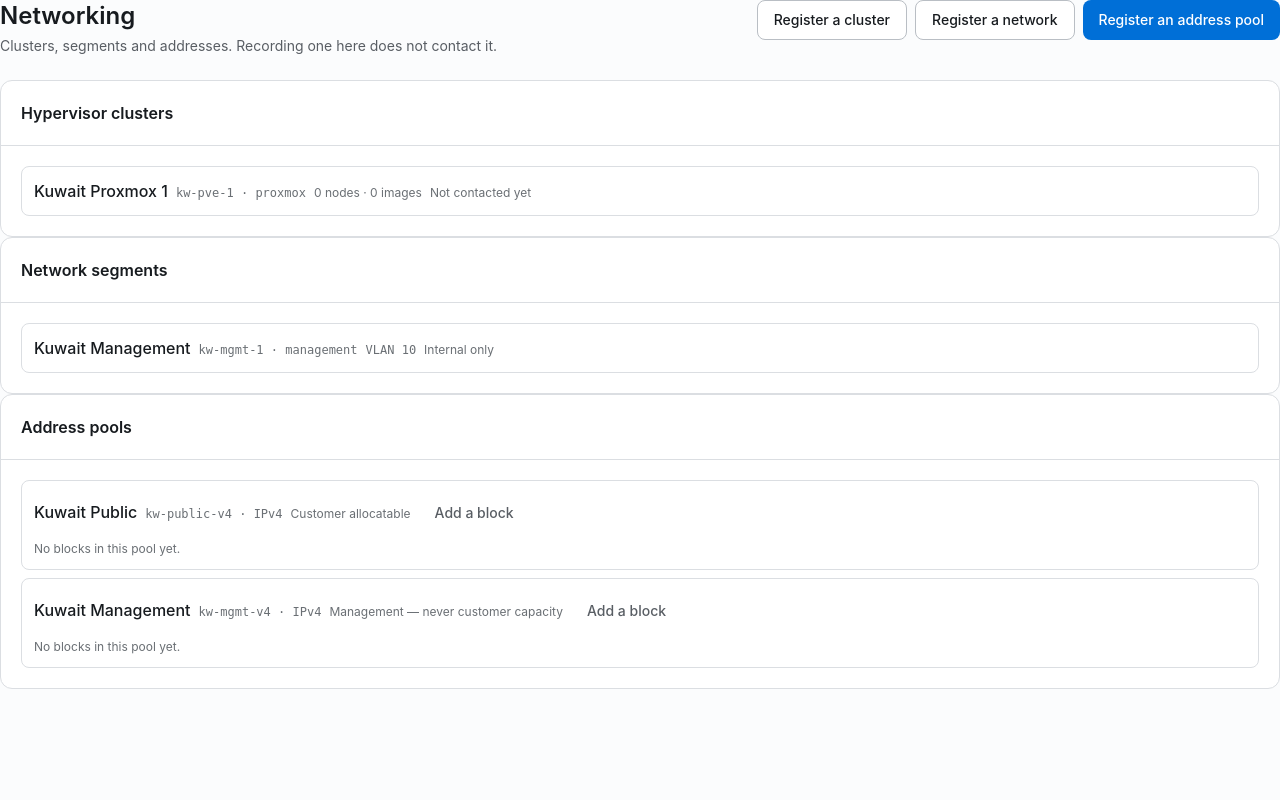
Test: NetworkingPage › says a customer block needs a customer-facing segment when there is none
The image size is (1280, 800).
Step 1. Click the button "Add a block" next to "Customer allocatable" → [474, 513], box [419,493,530,533]
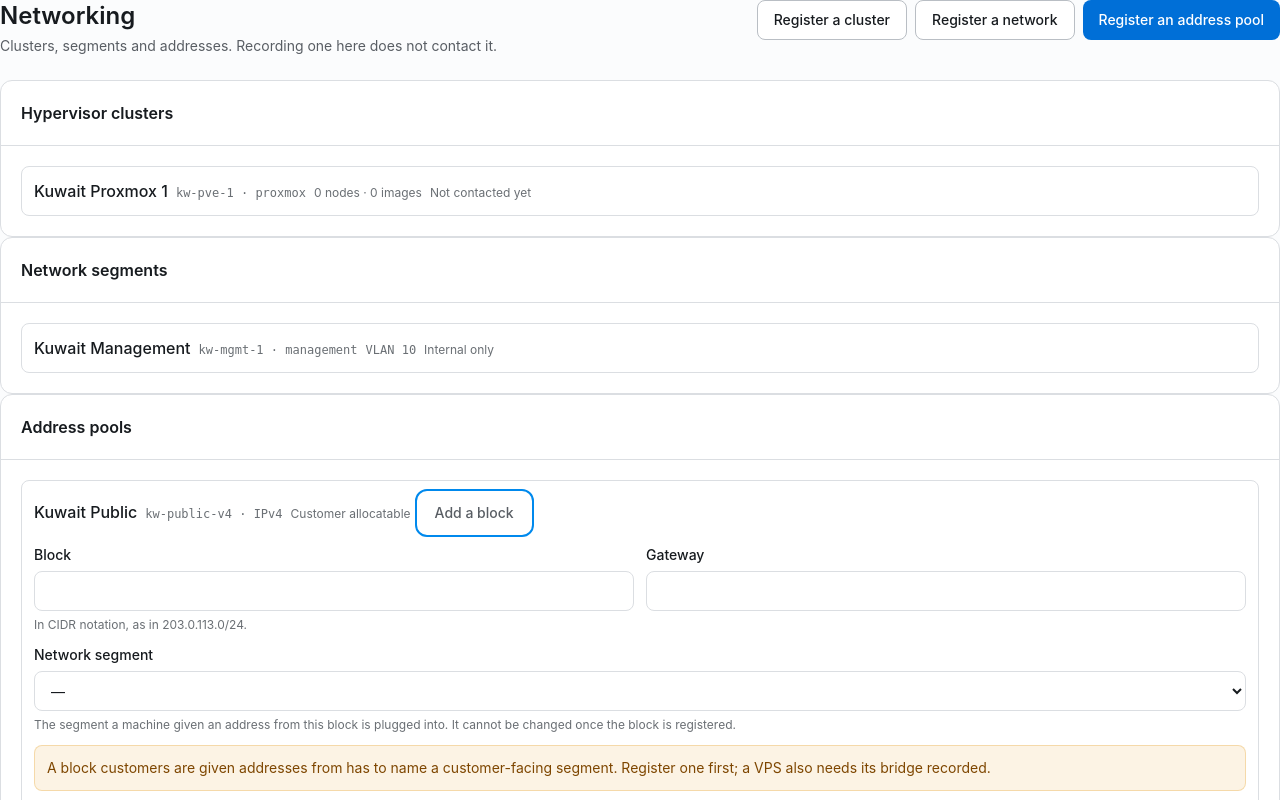
Check: the text "has to name a customer-facing segment" is shown, box [47,759,991,776]
